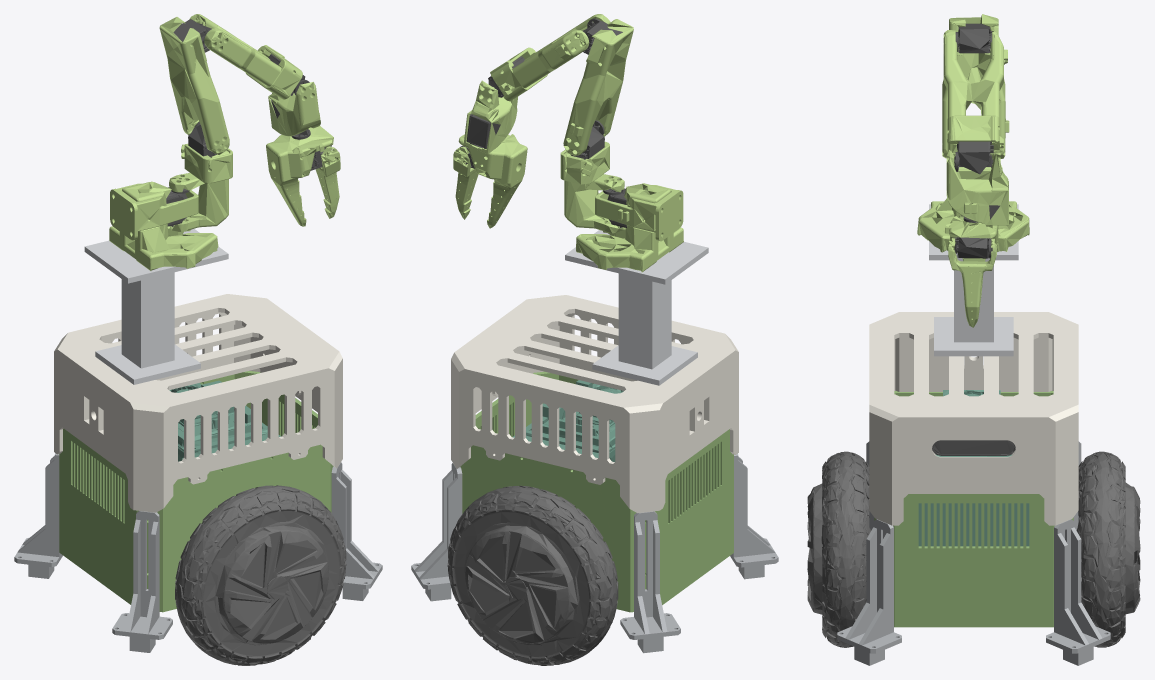
Rendered from via_c_v0_1.glb.
3 views of the same model, side by side, from view 1: azimuth 30°, elevation 25°; view 2: azimuth 150°, elevation 25°; view 3: azimuth 270°, elevation 25° (orthographic). The views are drawn at different scales.
Parts seen in each view (by area): view 1: base_shell, base_wheel, base_chassis, base_bracket, riser, upper_arm_link_8, base_link_1, gripper_link_15, lower_arm_link_9, shoulder_link_6, wrist_link_13, base_board (+5 smaller); view 2: base_shell, base_wheel, base_chassis, base_bracket, riser, upper_arm_link_8, base_link_1, gripper_link_15, lower_arm_link_9, shoulder_link_6, wrist_link_13, base_board (+7 smaller); view 3: base_shell, base_wheel, base_chassis, base_bracket, riser, base_board, lower_arm_link_9, wrist_link_13, upper_arm_link_8, base_link_1, moving_jaw_so101_v1_link_16, lower_arm_link_10 (+5 smaller).
Boxes of the visible parts, bbox=[...] form: base_shell: bbox=[54, 294, 342, 512]; base_wheel: bbox=[175, 485, 346, 665]; base_chassis: bbox=[59, 371, 333, 612]; base_bracket: bbox=[14, 453, 382, 652]; riser: bbox=[84, 229, 228, 384]; upper_arm_link_8: bbox=[159, 17, 229, 154]; base_link_1: bbox=[109, 181, 218, 270]; gripper_link_15: bbox=[266, 126, 333, 226]; lower_arm_link_9: bbox=[189, 14, 281, 86]; shoulder_link_6: bbox=[169, 150, 229, 231]; wrist_link_13: bbox=[268, 82, 320, 136]; base_board: bbox=[169, 380, 280, 461]; base_shell: bbox=[451, 295, 738, 513]; base_wheel: bbox=[447, 485, 618, 665]; base_chassis: bbox=[460, 371, 733, 612]; base_bracket: bbox=[411, 454, 778, 653]; riser: bbox=[565, 230, 708, 385]; upper_arm_link_8: bbox=[563, 19, 633, 155]; base_link_1: bbox=[576, 183, 683, 272]; gripper_link_15: bbox=[458, 134, 527, 228]; lower_arm_link_9: bbox=[512, 14, 610, 88]; shoulder_link_6: bbox=[564, 152, 624, 233]; wrist_link_13: bbox=[463, 80, 518, 153]; base_board: bbox=[512, 380, 623, 461]; base_shell: bbox=[869, 312, 1078, 525]; base_wheel: bbox=[807, 451, 1140, 647]; base_chassis: bbox=[874, 391, 1073, 627]; base_bracket: bbox=[837, 441, 1110, 665]; riser: bbox=[929, 204, 1018, 356]; base_board: bbox=[918, 390, 1029, 546]; lower_arm_link_9: bbox=[943, 30, 1007, 153]; wrist_link_13: bbox=[946, 150, 1008, 228]; upper_arm_link_8: bbox=[942, 14, 1009, 158]; base_link_1: bbox=[917, 198, 1029, 252]; moving_jaw_so101_v1_link_16: bbox=[948, 238, 996, 327]; lower_arm_link_10: bbox=[947, 115, 1003, 155].
Size of the model in its own units: 0.3245 by 0.68 by 0.3342.
